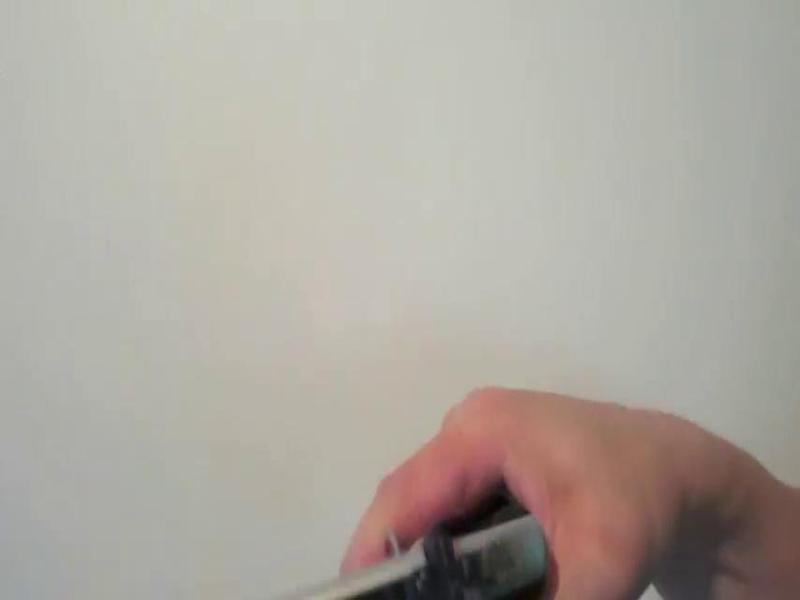Revolver: (187, 428, 665, 600)
